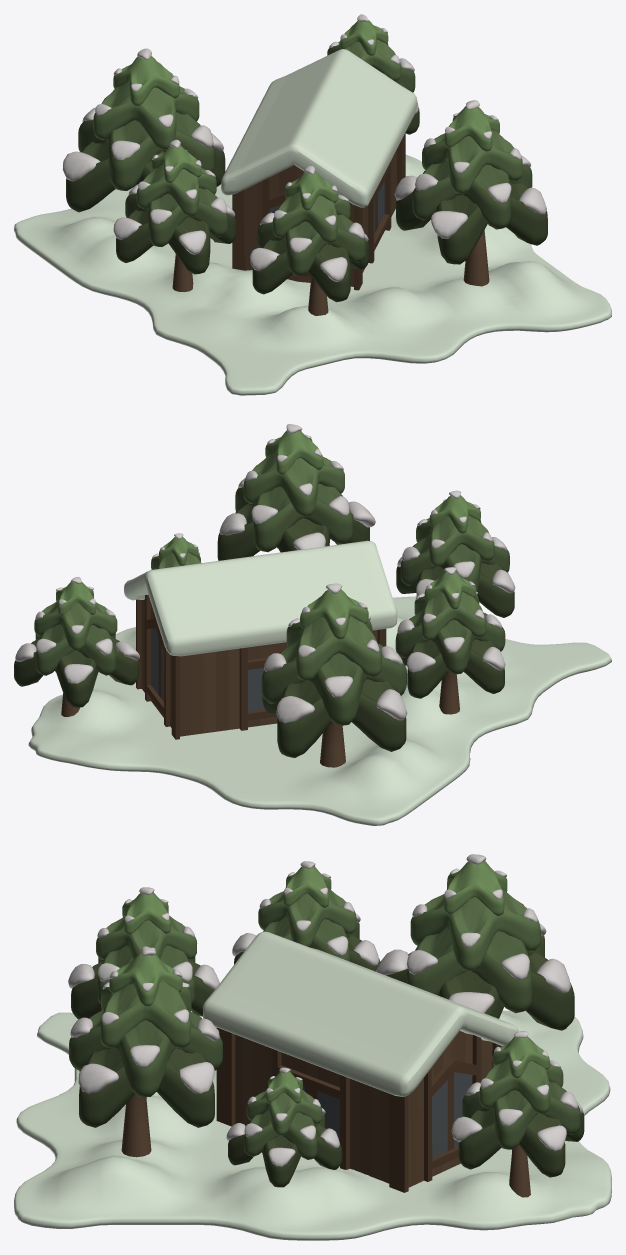
File: Cabin2.fbx
3 views of the same model, one above another, from view 1: azimuth 30°, elevation 25°; view 2: azimuth 150°, elevation 25°; view 3: azimuth 270°, elevation 25° (orthographic). The views are drawn at different scales.
Parts seen in each view (by area): view 1: group17_pasted__group13_pasted__pasted__group12_pasted__past; view 2: group17_pasted__group13_pasted__pasted__group12_pasted__past; view 3: group17_pasted__group13_pasted__pasted__group12_pasted__past.
Boxes of the visible parts, x1=… form: group17_pasted__group13_pasted__pasted__group12_pasted__past: x1=14, y1=14, x2=611, y2=395; group17_pasted__group13_pasted__pasted__group12_pasted__past: x1=14, y1=424, x2=611, y2=825; group17_pasted__group13_pasted__pasted__group12_pasted__past: x1=14, y1=854, x2=611, y2=1240.
Size of the model in its own units: 7.64 by 3.66 by 8.57.
